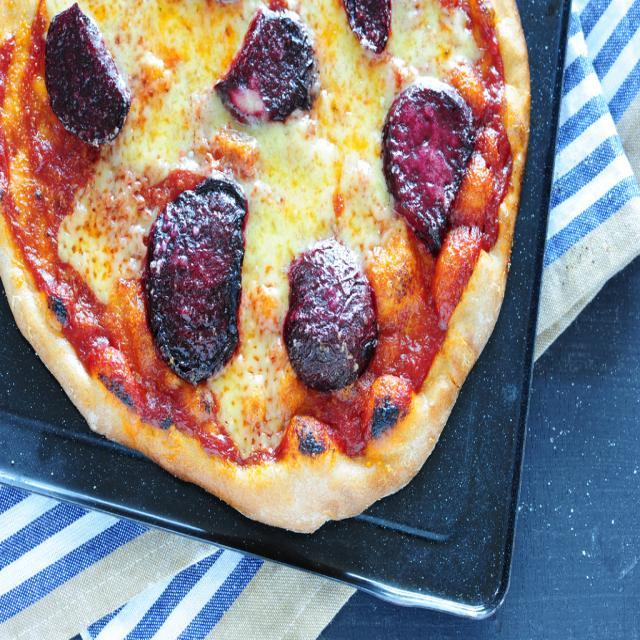Pizza: (0, 0, 530, 530)
